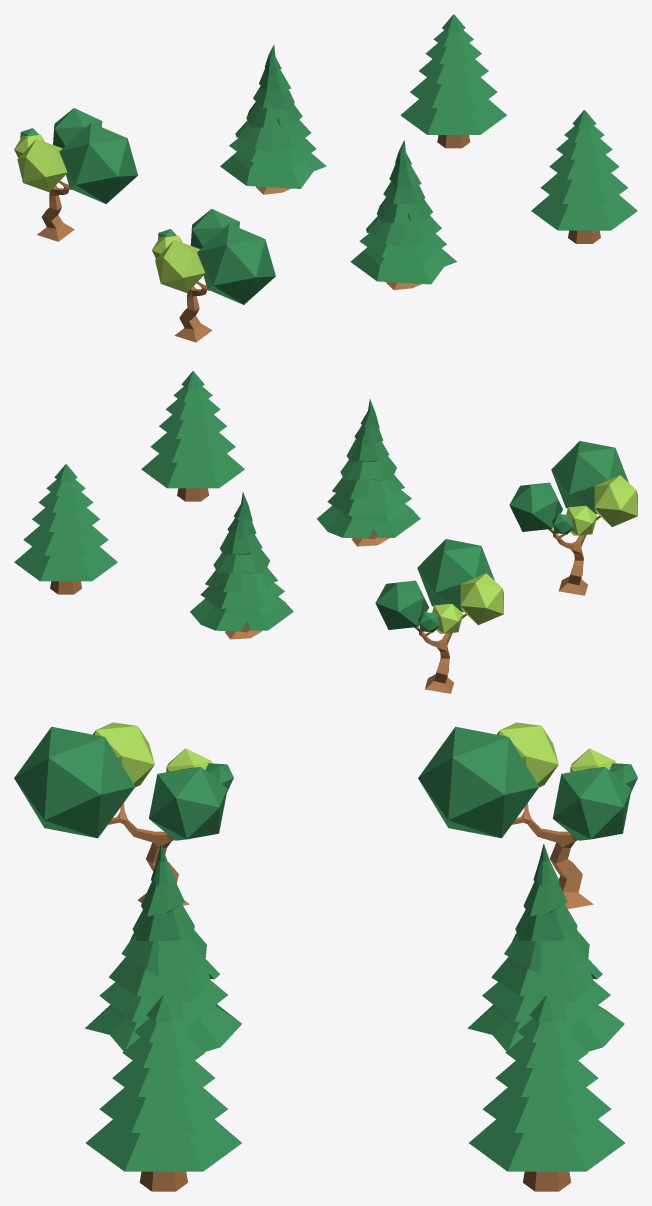
Rendered from Trees.fbx.
The picture shows the model from 3 angles, top to bottom: view 1: azimuth 30°, elevation 25°; view 2: azimuth 150°, elevation 25°; view 3: azimuth 270°, elevation 25°; orthographic projection. The views are drawn at different scales.
Visible parts, largest first — view 1: Tree 1, Tree 2, Tree 3, Icosphere.001, Cylinder.001, Cylinder.008, Cylinder.002, Icosphere, Cylinder.014, Cylinder.003, Cylinder.009, Cube (+6 smaller); view 2: Tree 1, Tree 2, Tree 3, Icosphere.001, Cylinder.001, Cylinder.008, Icosphere.005, Cylinder.002, Icosphere, Cylinder.009, Cylinder.014, Cylinder.003 (+6 smaller); view 3: Tree 1, Tree 3, Tree 2, Icosphere.001, Cylinder.001, Icosphere.005, Cylinder.002, Cylinder.014, Cylinder.008, Cylinder.003, Cylinder.015, Cylinder.009 (+7 smaller).
Boxes of the visible parts, box(x1,y1,x2,y2) form: Tree 1: box(14, 108, 138, 241); Tree 2: box(220, 45, 326, 194); Tree 3: box(400, 14, 506, 148); Icosphere.001: box(197, 223, 275, 304); Cylinder.001: box(531, 195, 637, 230); Cylinder.008: box(350, 247, 456, 284); Cylinder.002: box(540, 173, 627, 203); Icosphere: box(155, 240, 204, 292); Cylinder.014: box(366, 215, 441, 247); Cylinder.003: box(549, 154, 619, 179); Cylinder.009: box(359, 233, 446, 258); Cube: box(174, 281, 212, 342); Tree 1: box(375, 539, 503, 693); Tree 2: box(190, 492, 293, 639); Tree 3: box(14, 464, 117, 594); Icosphere.001: box(551, 441, 628, 514); Cylinder.001: box(141, 453, 244, 488); Cylinder.008: box(317, 504, 420, 538); Icosphere.005: box(509, 482, 562, 531); Cylinder.002: box(150, 432, 235, 462); Icosphere: box(594, 475, 637, 526); Cylinder.009: box(327, 489, 411, 515); Cylinder.014: box(332, 475, 404, 500); Cylinder.003: box(159, 414, 226, 438); Tree 1: box(418, 722, 637, 908); Tree 3: box(469, 995, 624, 1191); Tree 2: box(467, 844, 624, 1051); Icosphere.001: box(14, 726, 135, 838); Cylinder.001: box(86, 1119, 241, 1171); Icosphere.005: box(149, 767, 227, 840); Cylinder.002: box(99, 1087, 227, 1132); Cylinder.014: box(109, 957, 219, 1001); Cylinder.008: box(85, 1004, 241, 1051); Cylinder.003: box(112, 1060, 215, 1096); Cylinder.015: box(121, 930, 206, 976); Cylinder.009: box(99, 981, 227, 1026).
Size of the model in its own units: 1655 by 473 by 1268.
